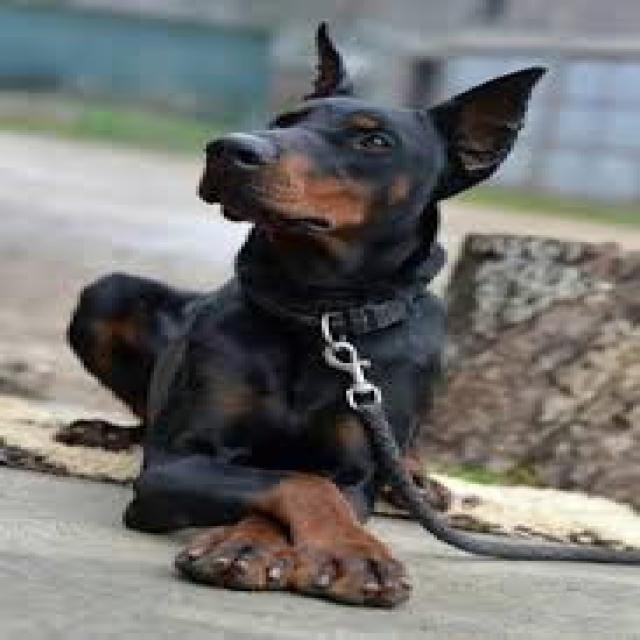Dog: (49, 12, 560, 616)
